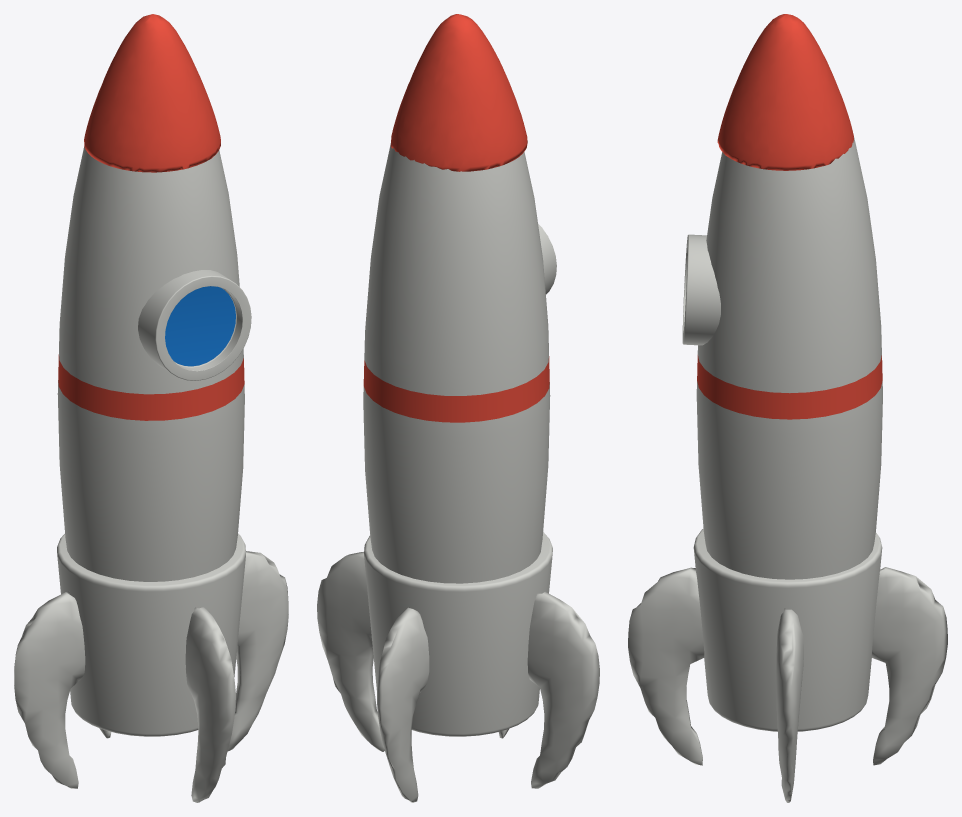
Rendered from rocket.glb.
3 views of the same model, side by side, from view 1: azimuth 30°, elevation 25°; view 2: azimuth 150°, elevation 25°; view 3: azimuth 270°, elevation 25° (orthographic).
Parts seen in each view (by area): view 1: rocket_body_0, rocket_nazell_3, rocket_head_1, rocket_window_2, rocket_beez2_4, rocket_beez3_6, rocket_beez1_5; view 2: rocket_body_0, rocket_nazell_3, rocket_head_1, rocket_beez2_4, rocket_beez3_6, rocket_beez4_7, rocket_window_2; view 3: rocket_body_0, rocket_nazell_3, rocket_head_1, rocket_beez1_5, rocket_beez4_7, rocket_beez3_6, rocket_window_2.
Part boxes in pixels (box(x1,y1,x2,y2)): rocket_body_0: box(57, 147, 244, 581); rocket_nazell_3: box(57, 533, 245, 736); rocket_head_1: box(84, 14, 220, 172); rocket_window_2: box(138, 270, 251, 380); rocket_beez2_4: box(14, 591, 85, 788); rocket_beez3_6: box(227, 551, 288, 751); rocket_beez1_5: box(185, 607, 235, 802); rocket_body_0: box(363, 143, 550, 583); rocket_nazell_3: box(364, 532, 552, 736); rocket_head_1: box(390, 14, 527, 171); rocket_beez2_4: box(527, 591, 599, 788); rocket_beez3_6: box(317, 552, 384, 751); rocket_beez4_7: box(377, 606, 429, 802); rocket_window_2: box(538, 223, 556, 294); rocket_body_0: box(696, 137, 882, 579); rocket_nazell_3: box(693, 528, 882, 731); rocket_head_1: box(717, 14, 853, 170); rocket_beez1_5: box(628, 567, 704, 765); rocket_beez4_7: box(871, 567, 947, 765); rocket_beez3_6: box(776, 608, 803, 802); rocket_window_2: box(682, 234, 720, 345).
Size of the model in its own units: 1.92 by 4.97 by 1.92.
